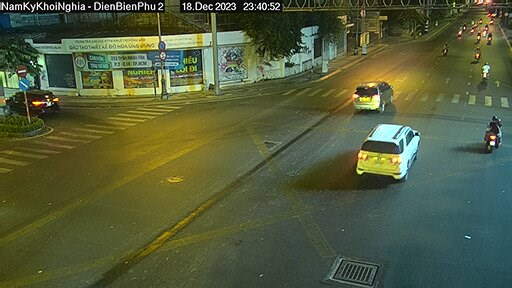car: (358, 112, 415, 187), (329, 71, 399, 116), (7, 80, 57, 113)
motorbike: (483, 115, 506, 152), (478, 62, 494, 87), (472, 46, 490, 65), (437, 39, 449, 58)
